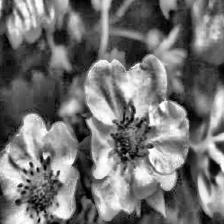Blossom Blight: (11, 154, 65, 224)
